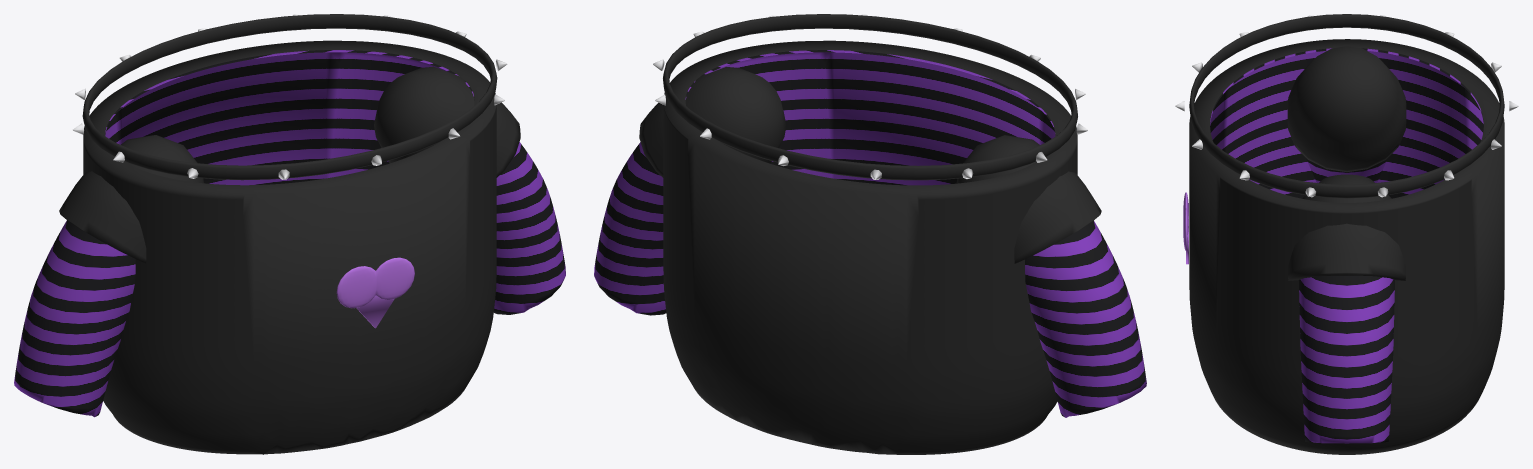
Rendered from emotop3.fbx.
3 renders of one model, left to right at view 1: azimuth 30°, elevation 25°; view 2: azimuth 150°, elevation 25°; view 3: azimuth 270°, elevation 25°, orthographic. The views are drawn at different scales.
Parts seen in each view (by area): view 1: emotop3; view 2: emotop3; view 3: emotop3.
Part boxes in pixels (<box>): emotop3: <box>14,14,565,454</box>; emotop3: <box>594,14,1146,454</box>; emotop3: <box>1175,14,1518,454</box>.
Bounding box in the file's own units: 1.24 × 0.6564 × 0.7284.
4 materials, 1 textured.
